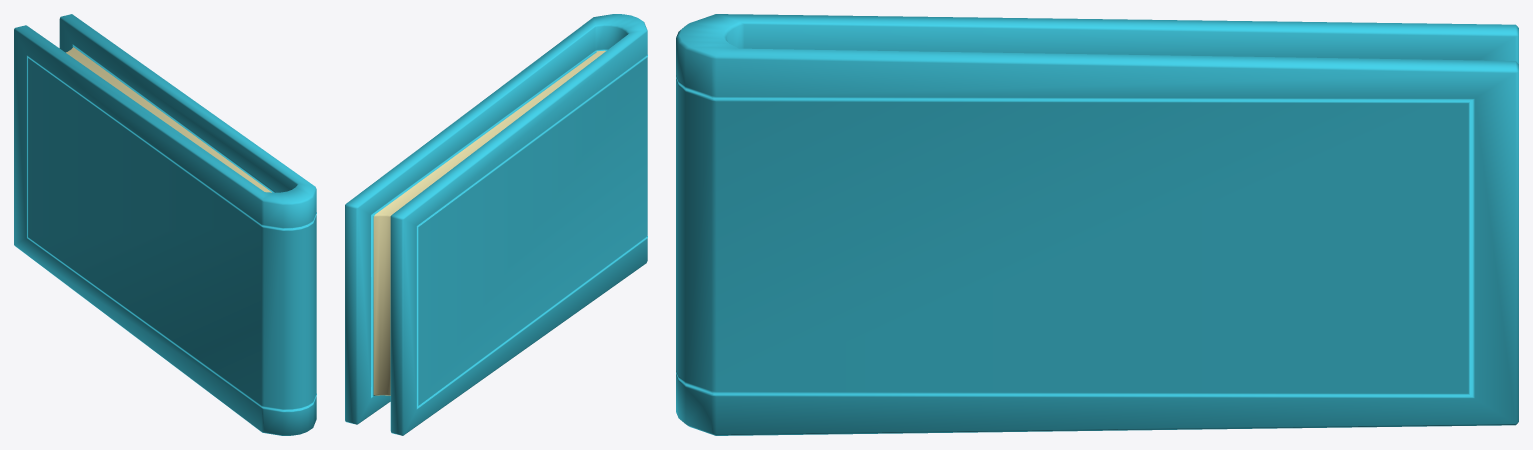
The model's file is Book_Blue.fbx.
The picture shows the model from 3 angles, left to right: view 1: azimuth 30°, elevation 25°; view 2: azimuth 150°, elevation 25°; view 3: azimuth 270°, elevation 25°; orthographic projection. The views are drawn at different scales.
Parts seen in each view (by area): view 1: Book.004; view 2: Book.004; view 3: Book.004.
Boxes of the visible parts, box(x1,y1,x2,y2) form: Book.004: box(14, 14, 316, 435); Book.004: box(345, 14, 647, 435); Book.004: box(676, 14, 1518, 435).
Bounding box in the file's own units: 2.88 × 10.86 × 21.83.
